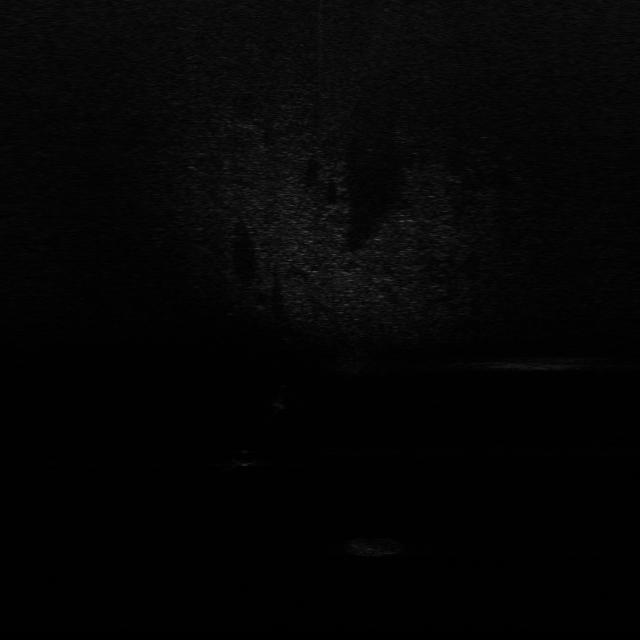ball: (234, 449, 257, 468)
circle cage: (337, 532, 407, 558)
human body: (269, 382, 293, 420)
